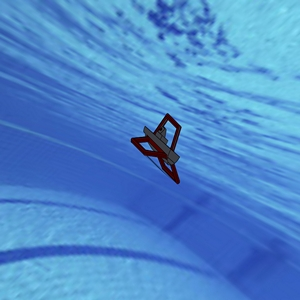submarine: (113, 88, 195, 193)
